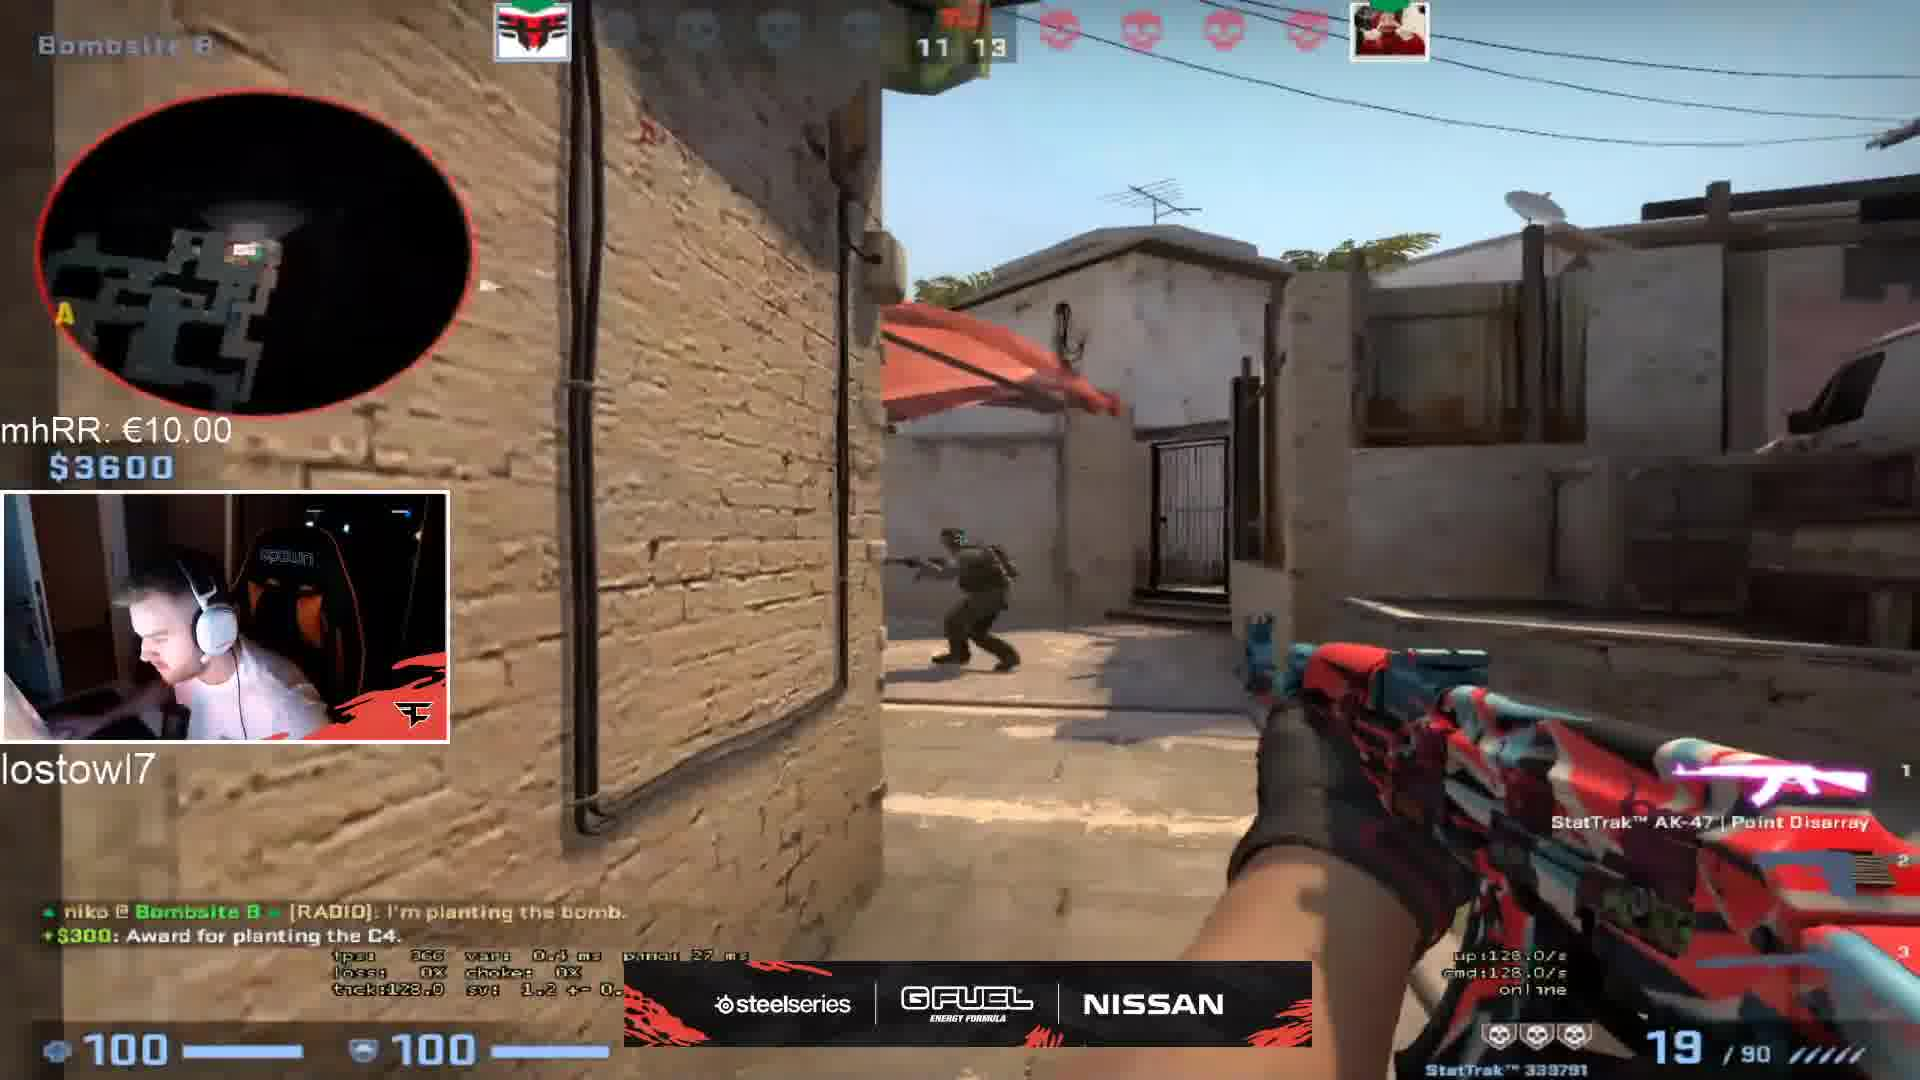enemy: (895, 506, 1040, 679)
